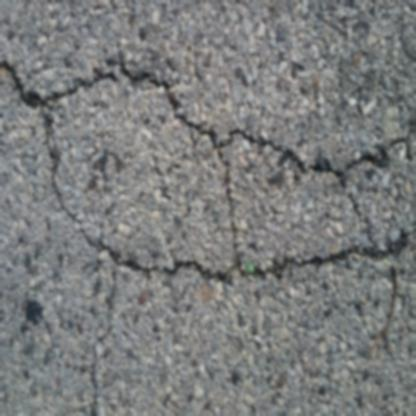Cracks: (0, 38, 415, 293)
